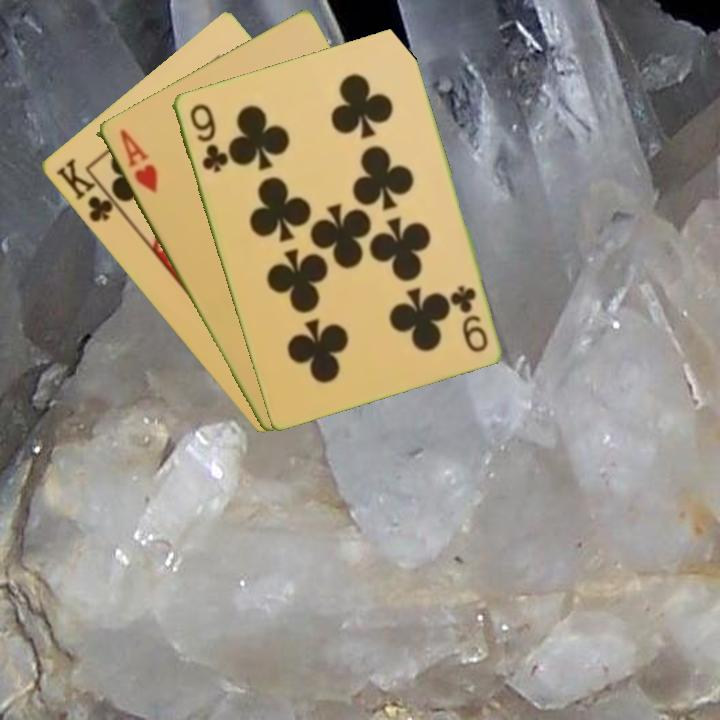9c: (186, 99, 229, 175), (448, 281, 490, 355)
Ah: (115, 125, 160, 196)
Kc: (52, 155, 124, 225)
